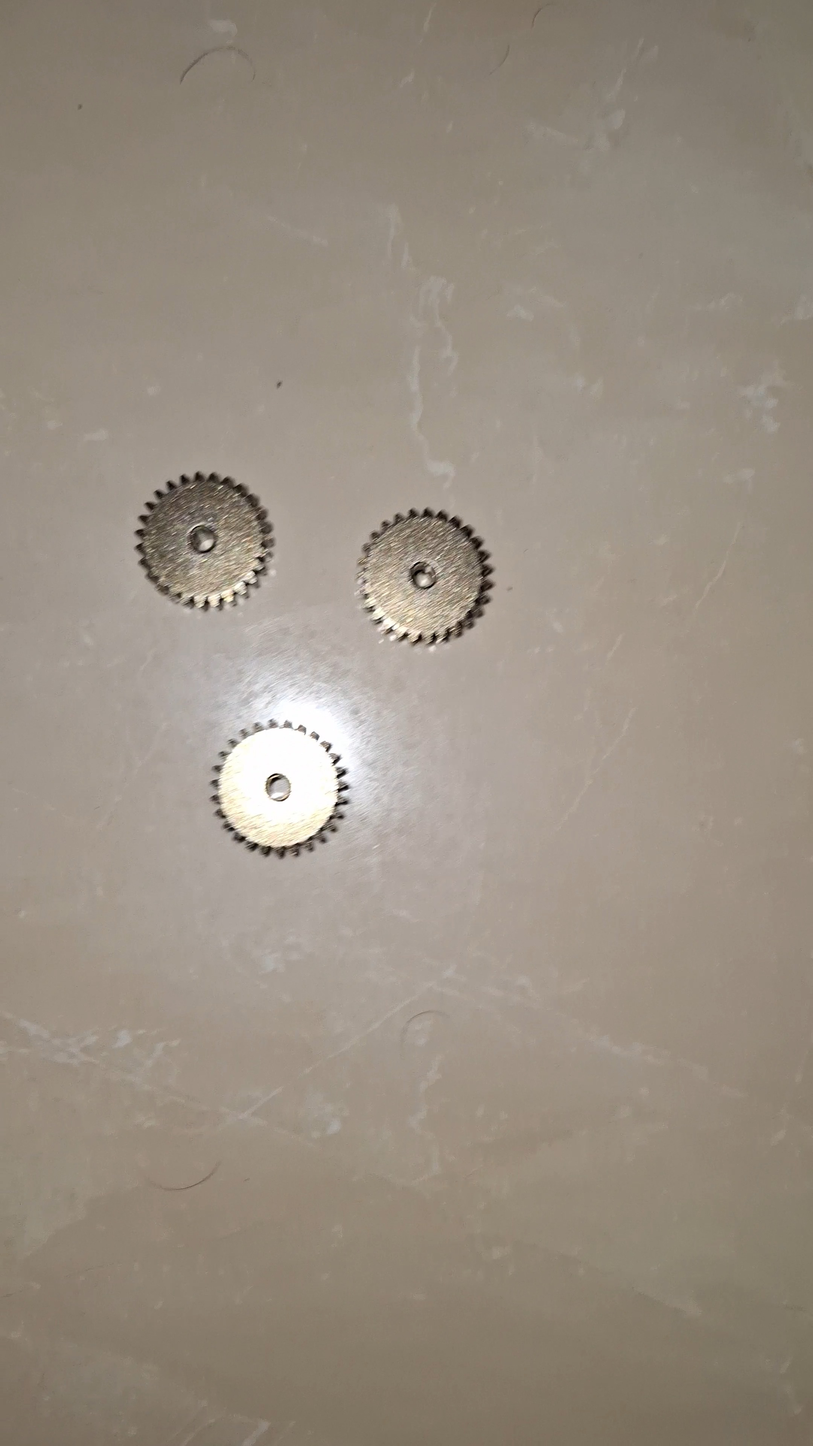spur gear: (137, 473, 271, 609), (358, 508, 491, 643), (213, 721, 346, 855)
